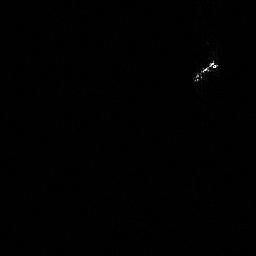ship: (192, 56, 220, 83)
